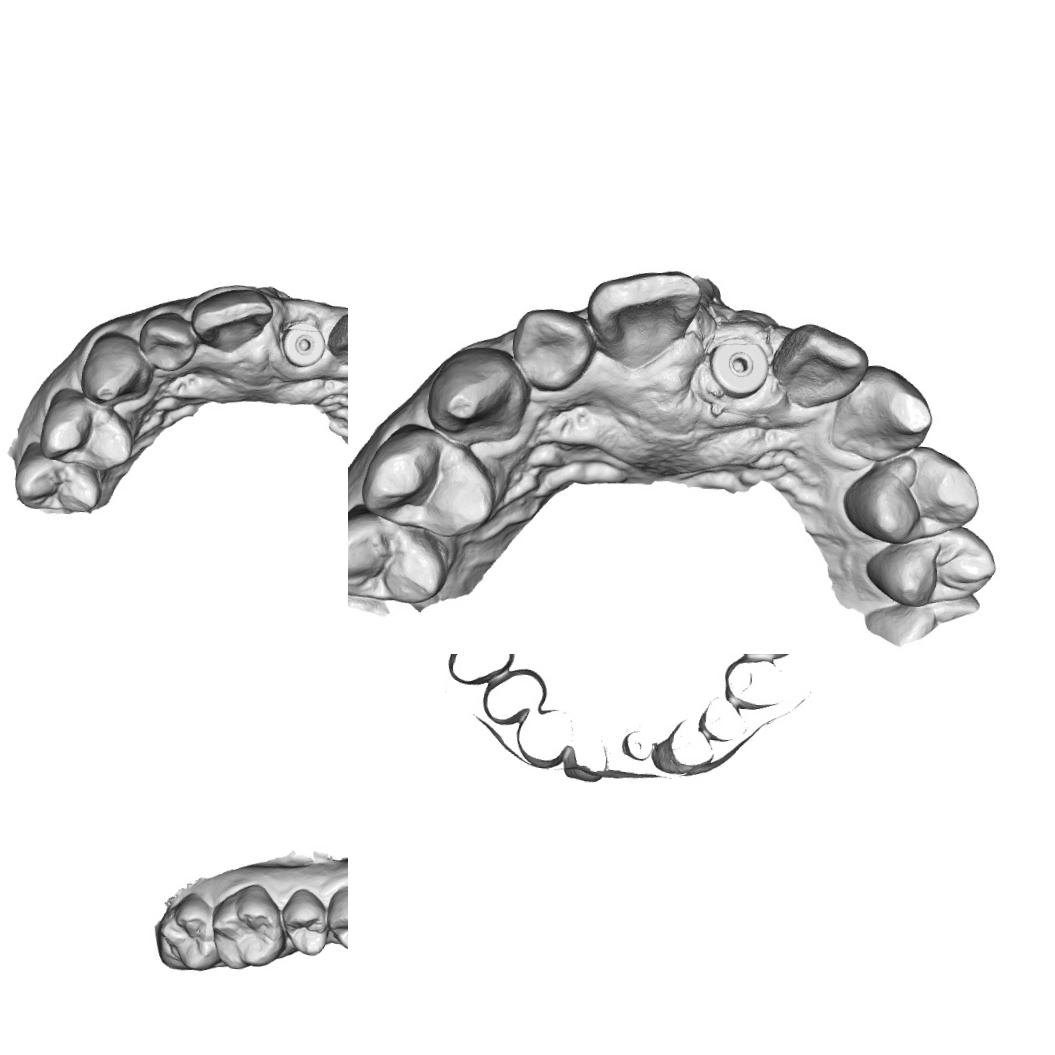canine: (826, 358, 936, 467), (422, 342, 530, 447), (76, 328, 154, 408)
implant: (706, 333, 772, 400), (282, 315, 328, 369)
incisor: (584, 264, 702, 373), (770, 320, 869, 412), (507, 304, 594, 394), (188, 282, 274, 355), (134, 308, 198, 374), (322, 307, 348, 371)
molar: (210, 880, 282, 969), (151, 894, 215, 974)
premolar: (357, 418, 499, 539), (837, 441, 982, 550), (861, 517, 996, 614), (348, 505, 448, 606), (34, 389, 138, 473), (12, 444, 104, 516), (277, 887, 333, 958), (325, 886, 348, 953)
